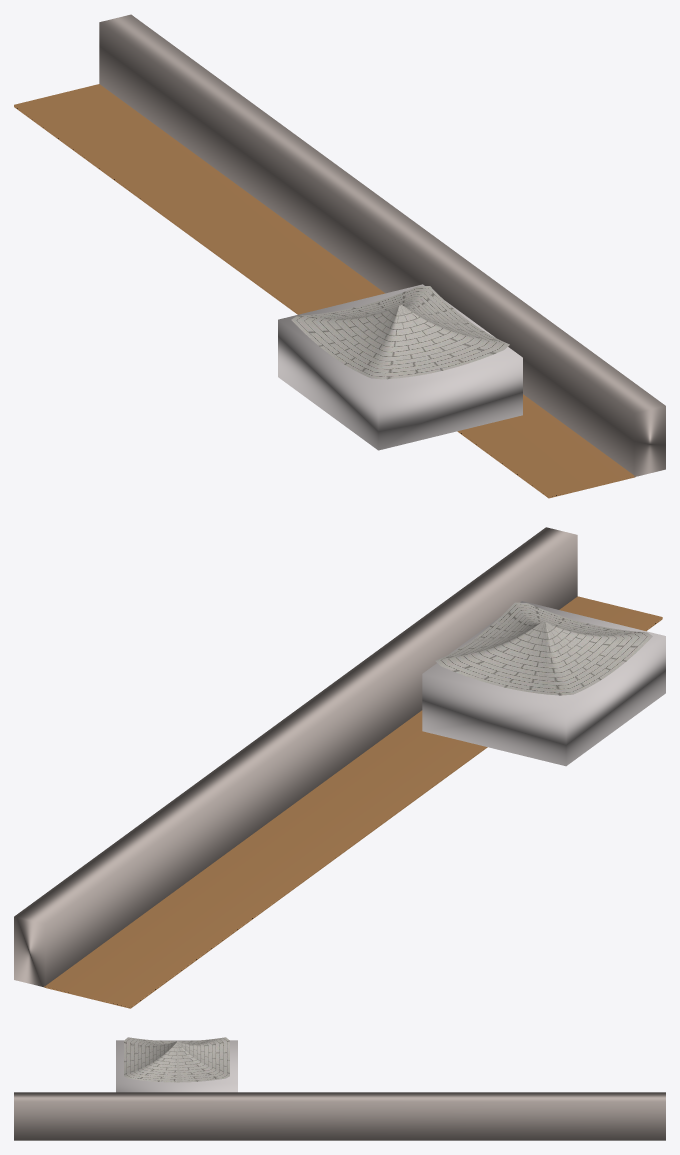
The picture shows the model from 3 angles, top to bottom: view 1: azimuth 30°, elevation 25°; view 2: azimuth 150°, elevation 25°; view 3: azimuth 270°, elevation 25°; orthographic projection. The views are drawn at different scales.
Parts seen in each view (by area): view 1: wall_simplified, trail_simplified, deck_simplified; view 2: wall_simplified, trail_simplified, deck_simplified; view 3: wall_simplified, deck_simplified.
Boxes of the visible parts, bbox=[...] form: wall_simplified: bbox=[99, 14, 665, 476]; trail_simplified: bbox=[14, 84, 635, 498]; deck_simplified: bbox=[278, 284, 522, 450]; wall_simplified: bbox=[14, 527, 577, 987]; trail_simplified: bbox=[44, 596, 662, 1008]; deck_simplified: bbox=[422, 601, 665, 766]; wall_simplified: bbox=[14, 1092, 665, 1140]; deck_simplified: bbox=[116, 1037, 237, 1092].
Size of the model in its own units: 14.1 by 6.53 by 64.
3 materials, 3 textured.
